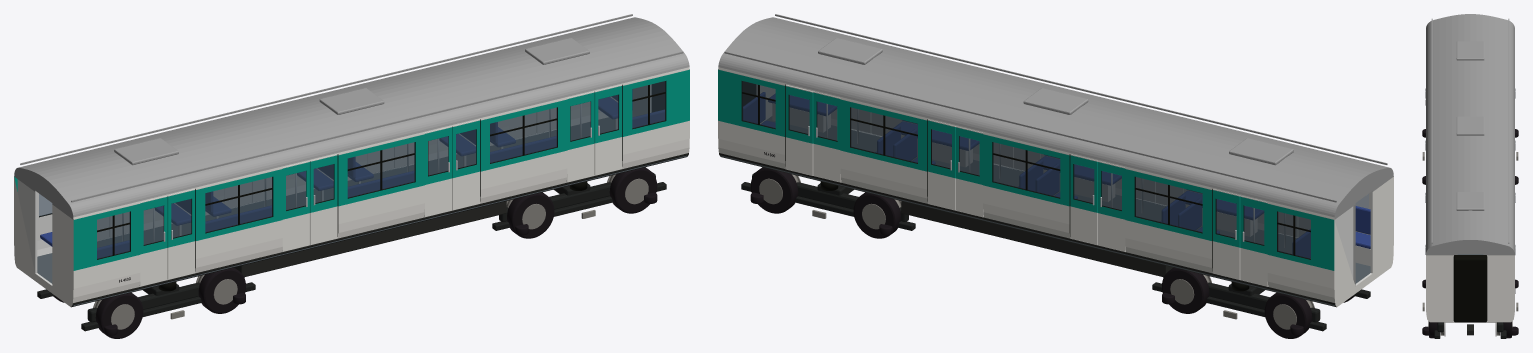
Rendered from mp73_car.glb.
3 views of the same model, side by side, from view 1: azimuth 30°, elevation 25°; view 2: azimuth 150°, elevation 25°; view 3: azimuth 270°, elevation 25° (orthographic). The views are drawn at different scales.
Visible parts, largest first — view 1: METRO_MP73_L6-Reno-5voit_V2_Caisse, METRO_MP73_L6-Reno-5voit_V2_BaieG1; view 2: METRO_MP73_L6-Reno-5voit_V2_Caisse, METRO_MP73_L6-Reno-5voit_V2_BaieG1; view 3: METRO_MP73_L6-Reno-5voit_V2_Caisse.
Boxes of the visible parts, x1,y1,x2,y2 form: METRO_MP73_L6-Reno-5voit_V2_Caisse: (14, 14, 689, 338); METRO_MP73_L6-Reno-5voit_V2_BaieG1: (39, 81, 665, 258); METRO_MP73_L6-Reno-5voit_V2_Caisse: (718, 14, 1393, 338); METRO_MP73_L6-Reno-5voit_V2_BaieG1: (742, 81, 1368, 258); METRO_MP73_L6-Reno-5voit_V2_Caisse: (1422, 14, 1518, 338).
Bounding box in the file's own units: 14.74 × 3.49 × 2.59.
3 materials, 1 textured.
